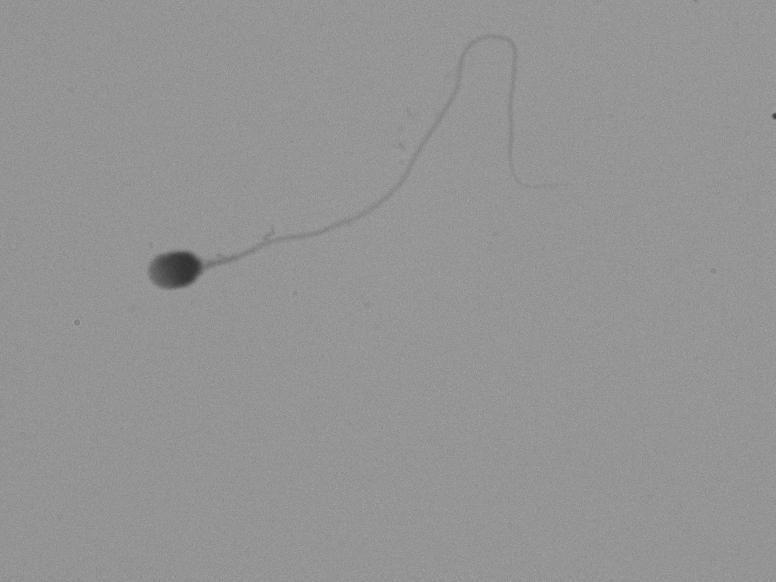Normal: (122, 31, 564, 390)
